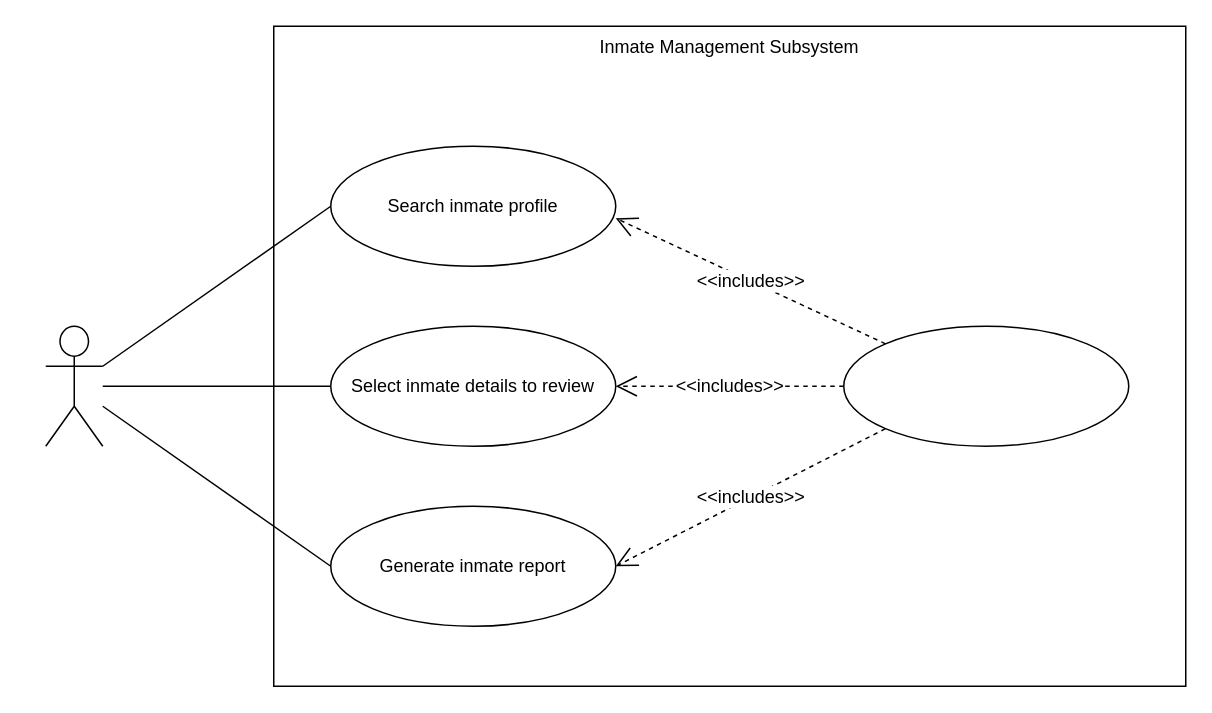
This 1212x713 diagram has some shape labels left out. The centre of each missing label's shape, as x and y in pixels:
"Correctional Officer" belongs at point 73,385.
"Report on inmate profile" belongs at point 985,385.
